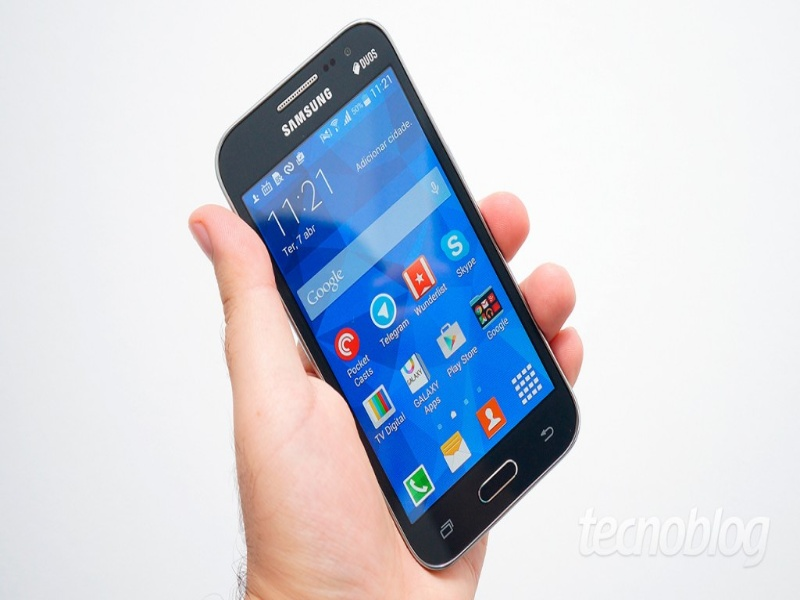cellphone: (206, 16, 581, 578)
